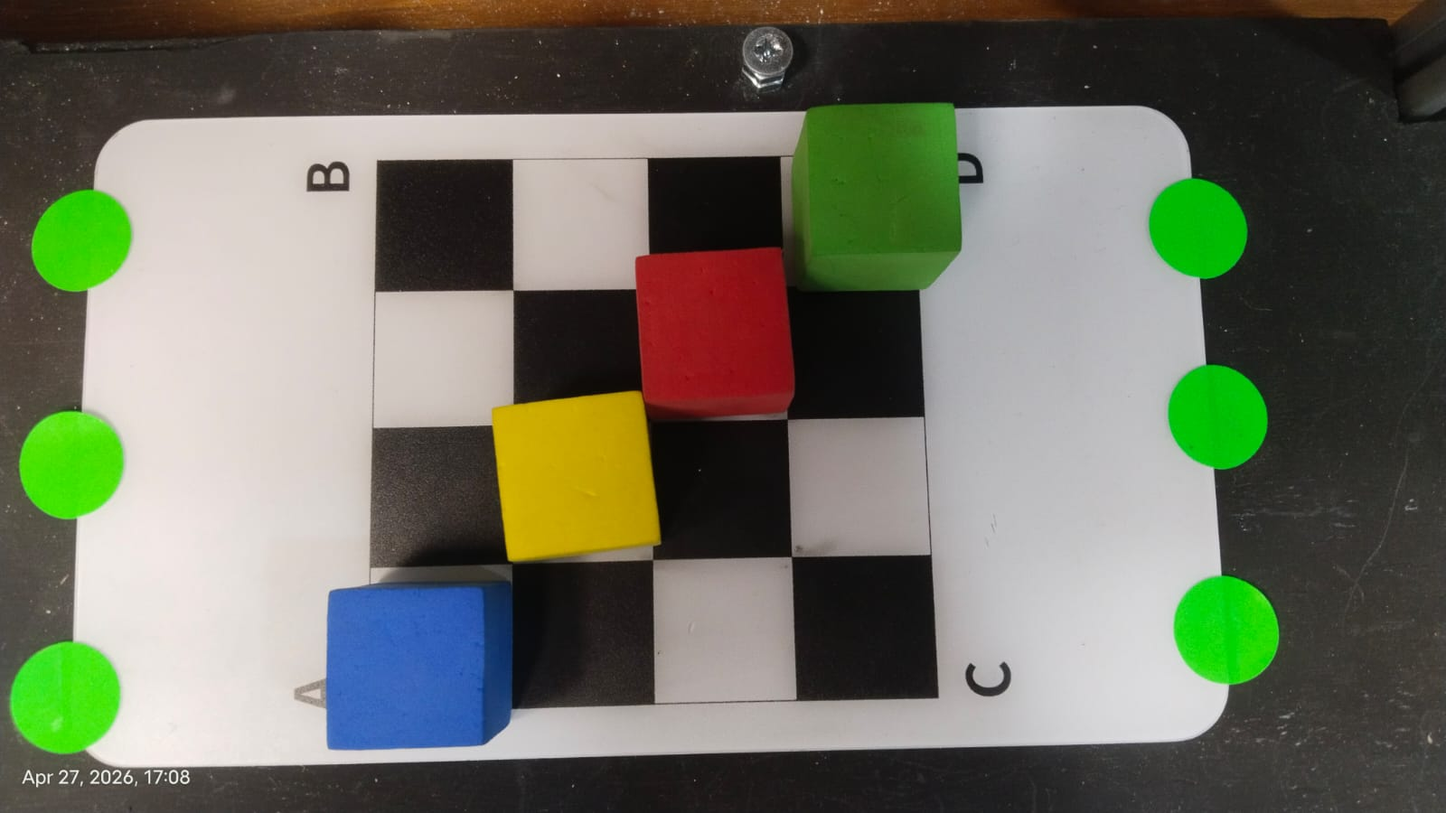blue: (322, 583, 518, 750)
green: (793, 96, 967, 298)
red: (623, 242, 807, 422)
yellow: (483, 388, 671, 567)
